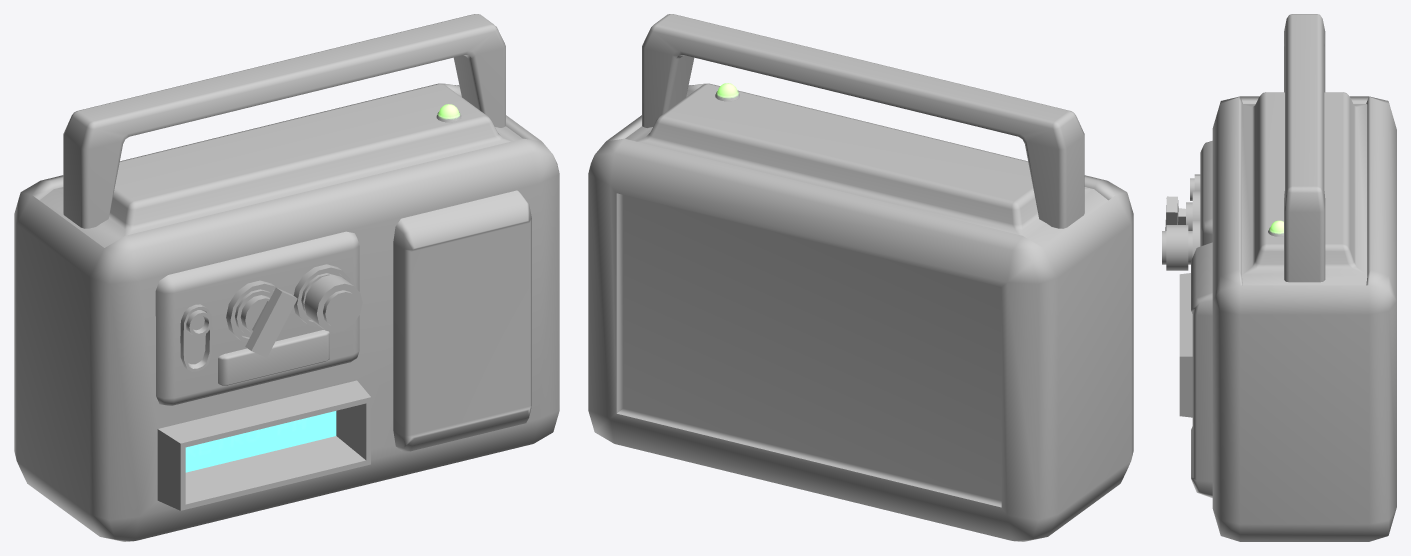
The picture shows the model from 3 angles, left to right: view 1: azimuth 30°, elevation 25°; view 2: azimuth 150°, elevation 25°; view 3: azimuth 270°, elevation 25°; orthographic projection. The views are drawn at different scales.
Visible parts, largest first — view 1: Radio_low; view 2: Radio_low; view 3: Radio_low.
Boxes of the visible parts, x1,y1,x2,y2 form: Radio_low: (14,14,559,541); Radio_low: (588,14,1133,541); Radio_low: (1162,14,1396,541).
Size of the model in its own units: 0.5249 by 0.4284 by 0.2579.
